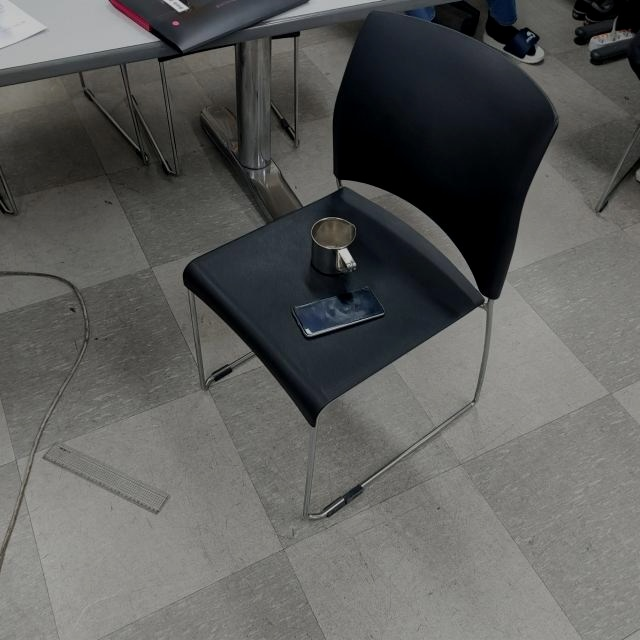cup: (309, 216, 358, 279)
phone: (290, 285, 386, 341)
